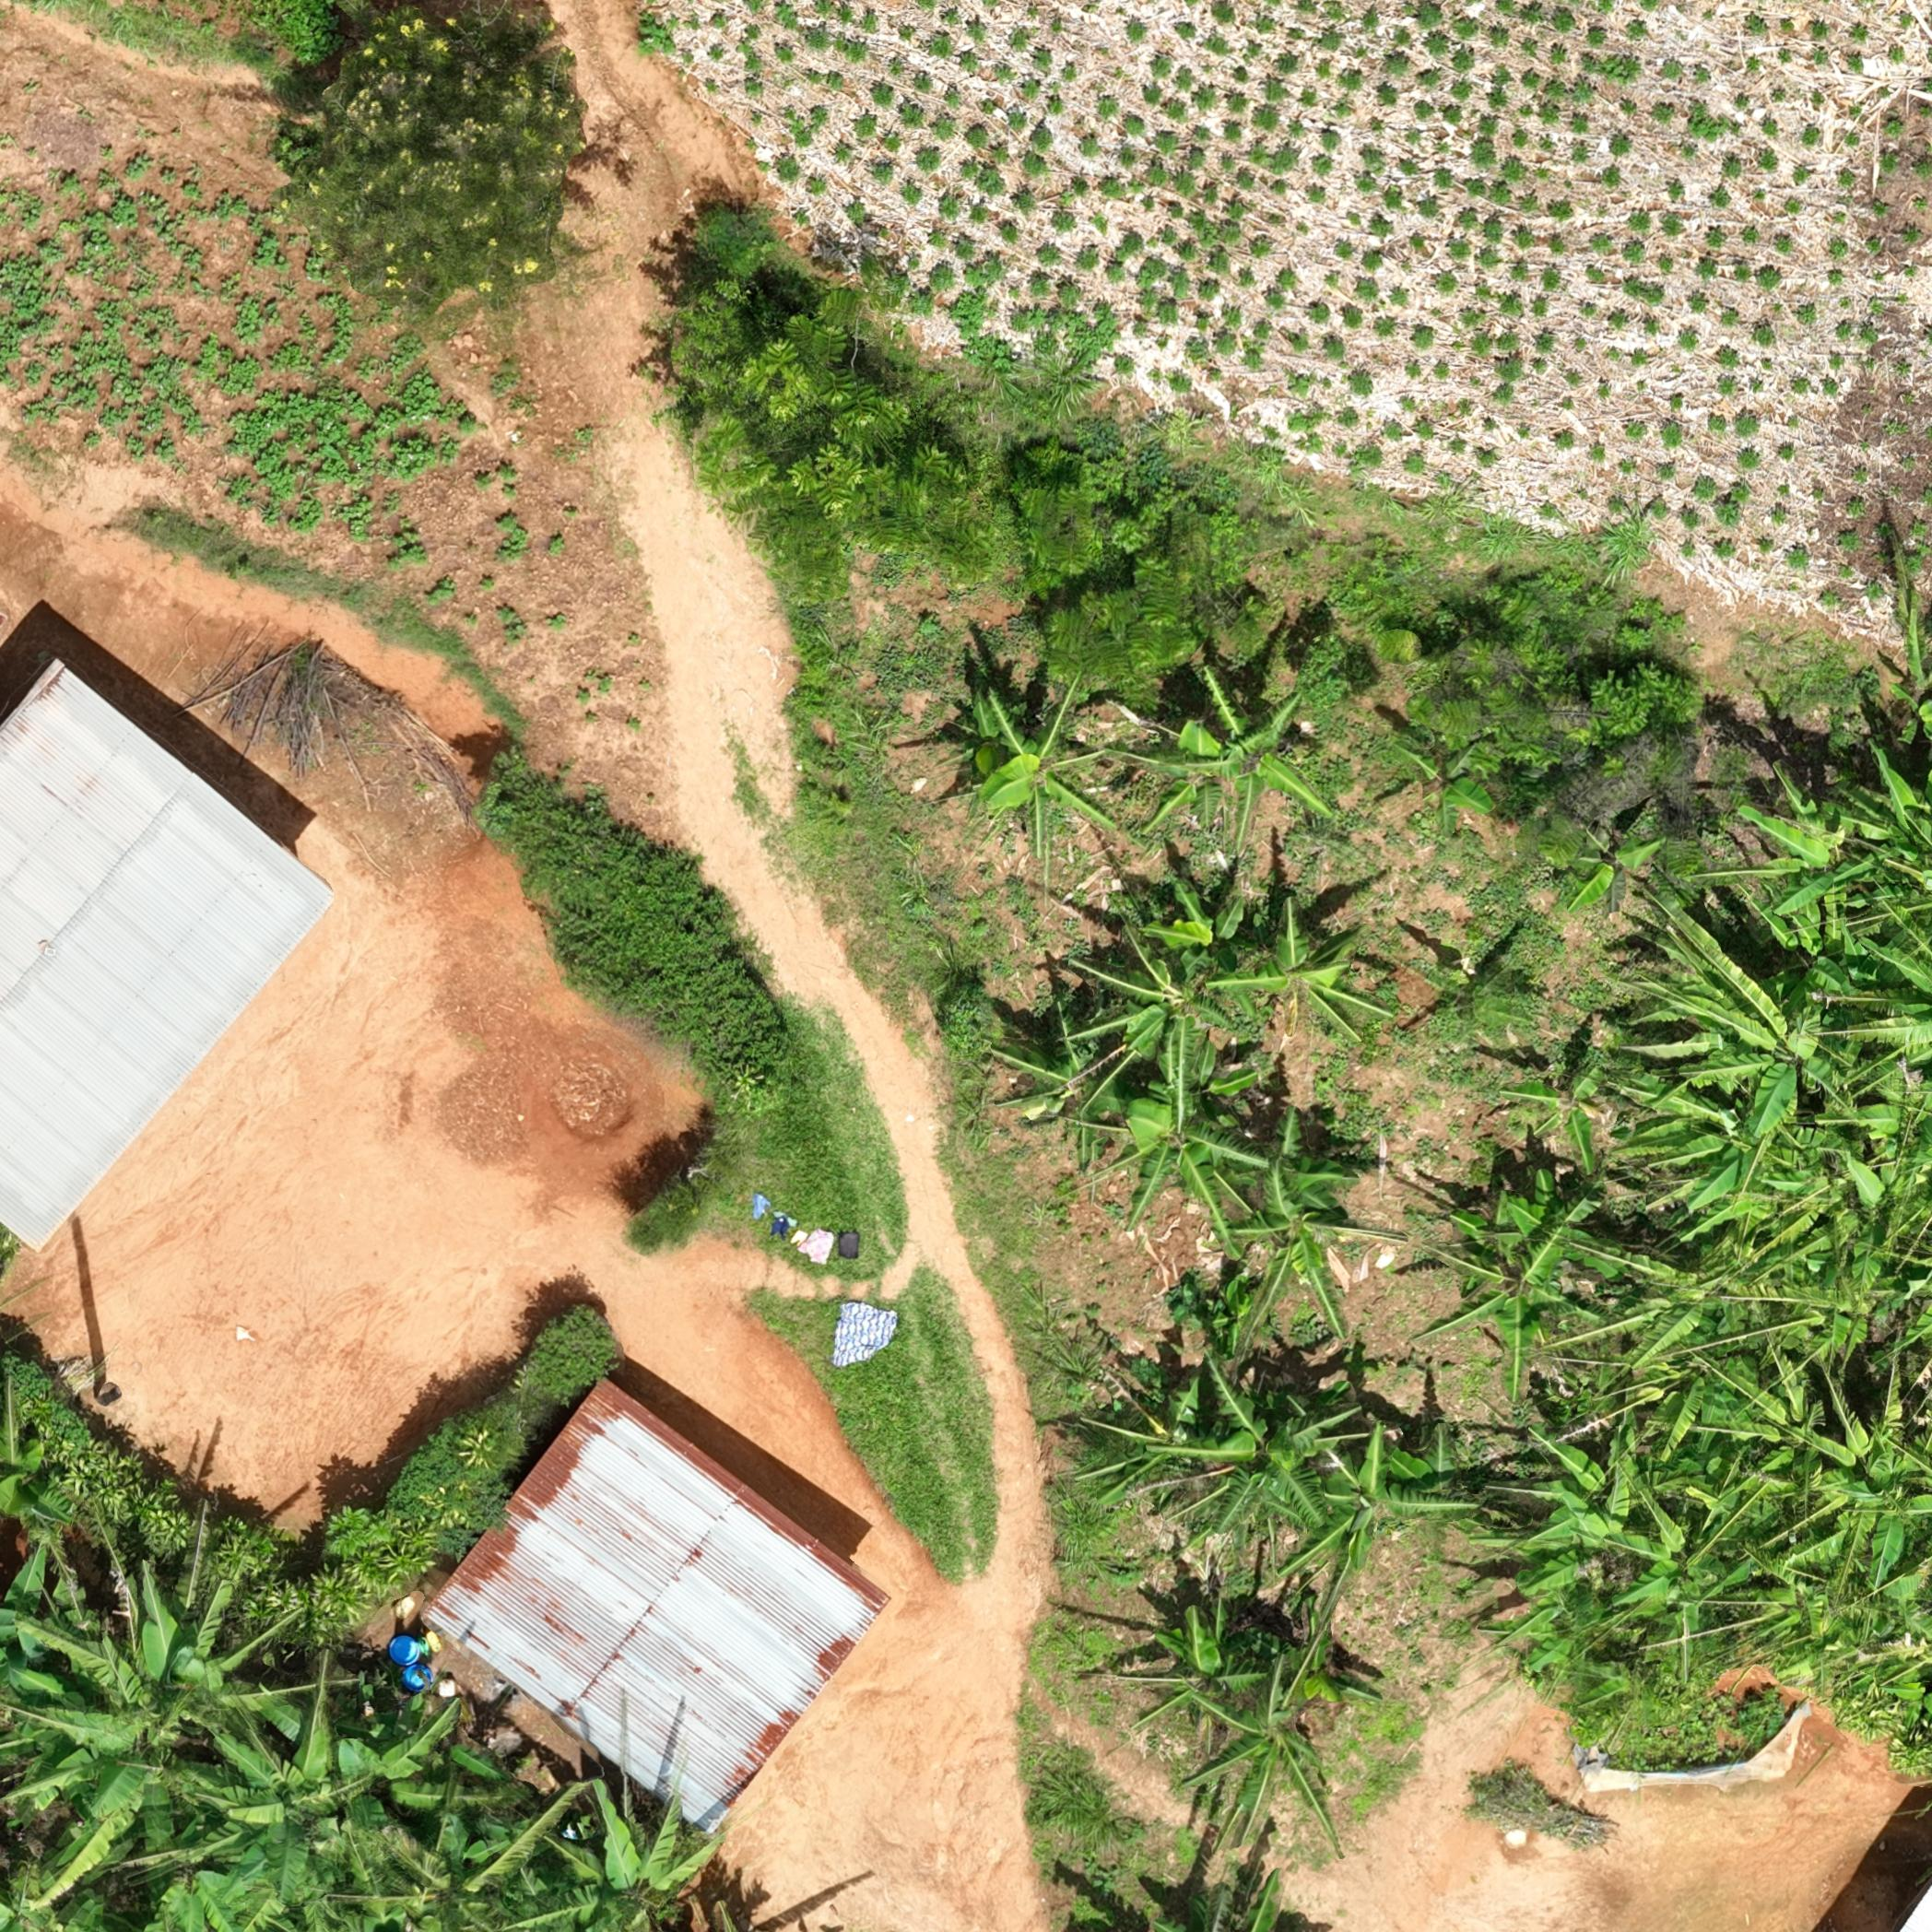Banana: (1115, 1585, 1391, 1865), (1177, 1345, 1484, 1578), (12, 1571, 292, 1785), (1493, 1419, 1713, 1658), (1426, 1162, 1656, 1353), (1030, 1077, 1263, 1261), (1212, 1100, 1385, 1348), (1143, 669, 1341, 863), (1056, 943, 1263, 1116), (1783, 1368, 1925, 1605), (1721, 761, 1872, 957), (1237, 895, 1401, 1051), (955, 690, 1122, 844), (533, 1805, 683, 1925), (1116, 862, 1263, 982), (1493, 1051, 1622, 1175), (1559, 826, 1665, 927)
